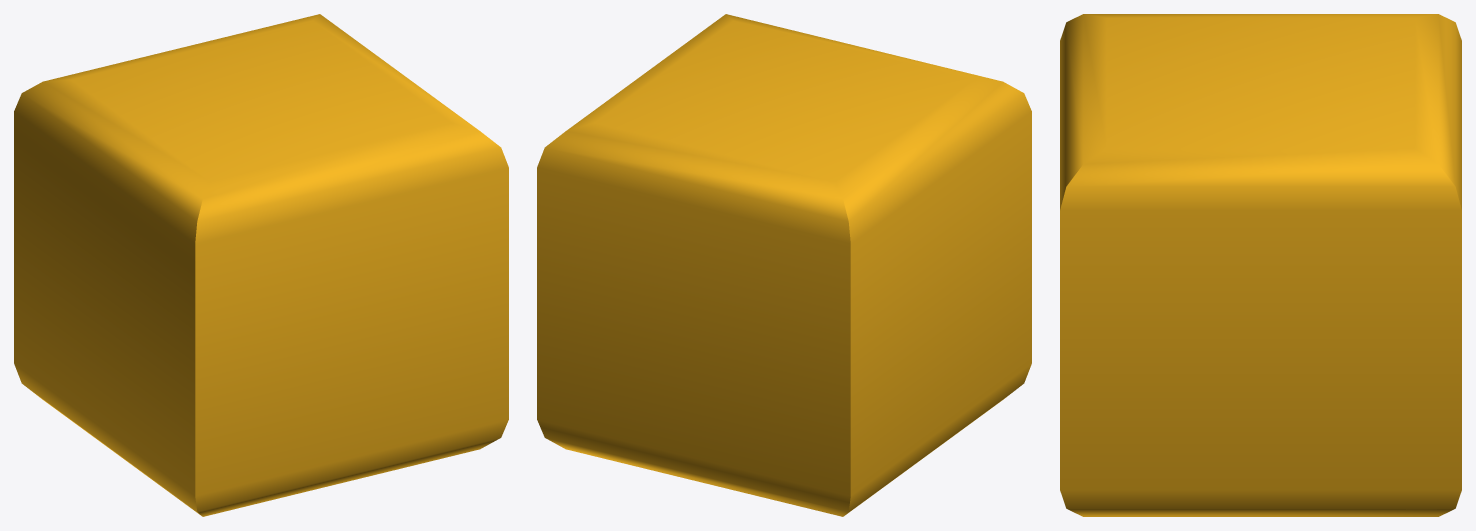
Rendered from cubething.fbx.
3 views of the same model, side by side, from view 1: azimuth 30°, elevation 25°; view 2: azimuth 150°, elevation 25°; view 3: azimuth 270°, elevation 25° (orthographic). The views are drawn at different scales.
Parts seen in each view (by area): view 1: CubeThing; view 2: CubeThing; view 3: CubeThing.
Part boxes in pixels (bbox=[...]): CubeThing: bbox=[14, 14, 508, 516]; CubeThing: bbox=[537, 14, 1031, 516]; CubeThing: bbox=[1060, 14, 1461, 516].
Size of the model in its own units: 103 by 103 by 103.
